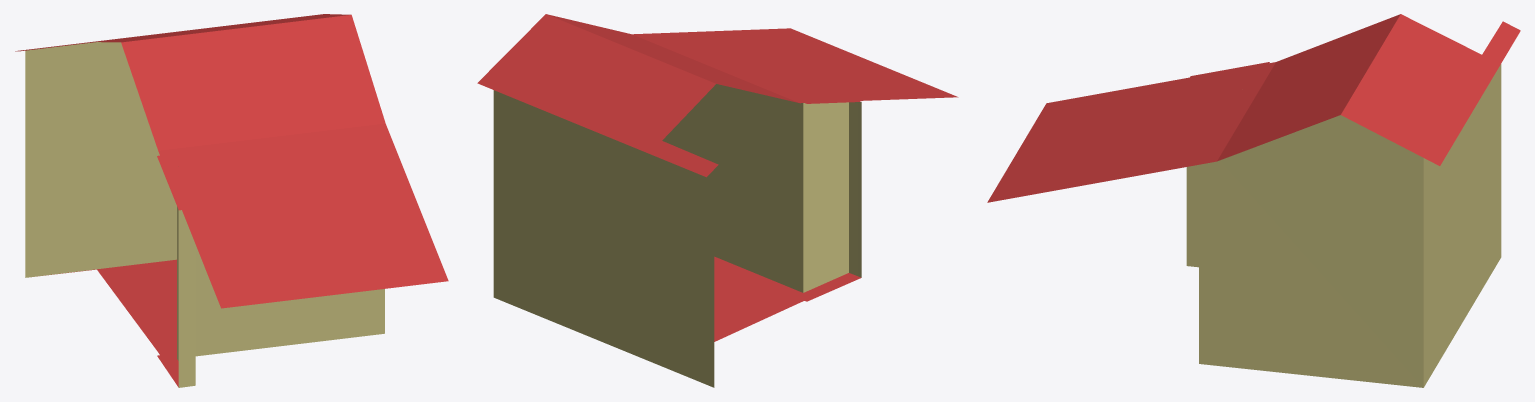
3 views of the same model, side by side, from view 1: azimuth 30°, elevation 25°; view 2: azimuth 150°, elevation 25°; view 3: azimuth 270°, elevation 25° (orthographic). The views are drawn at different scales.
Bounding box in the file's own units: 13.87 × 21.17 × 11.68.
